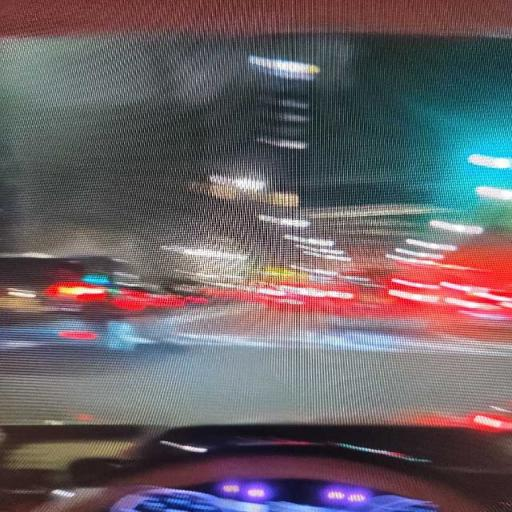car: (0, 257, 185, 348)
lane: (0, 305, 511, 425)
